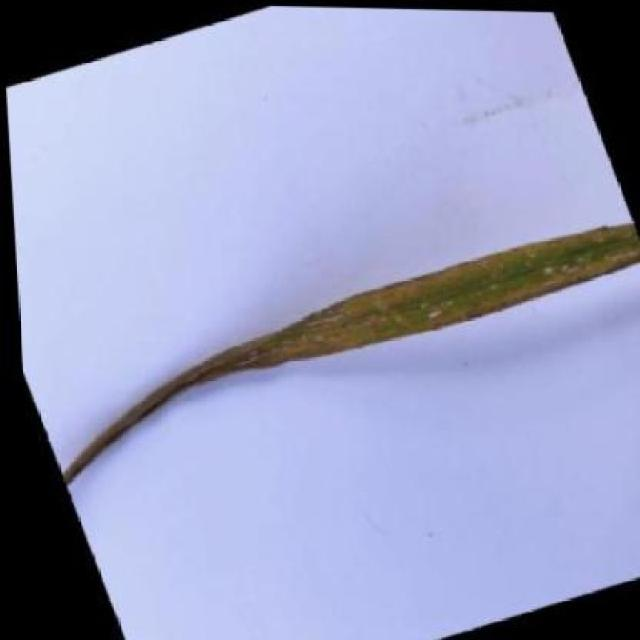Rice False Smut: (15, 193, 640, 541)
